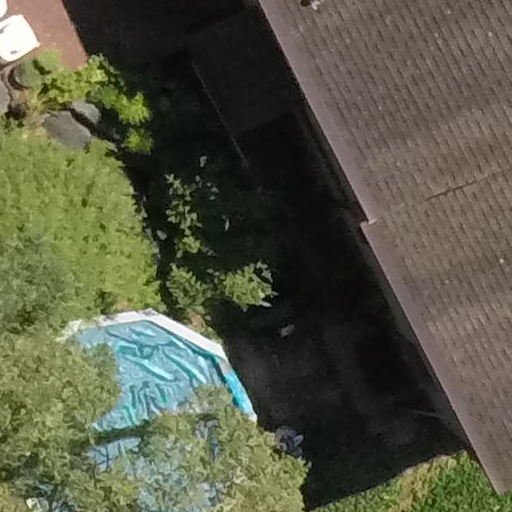tarp: (51, 319, 261, 512)
